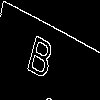B: (25, 25, 58, 81)
